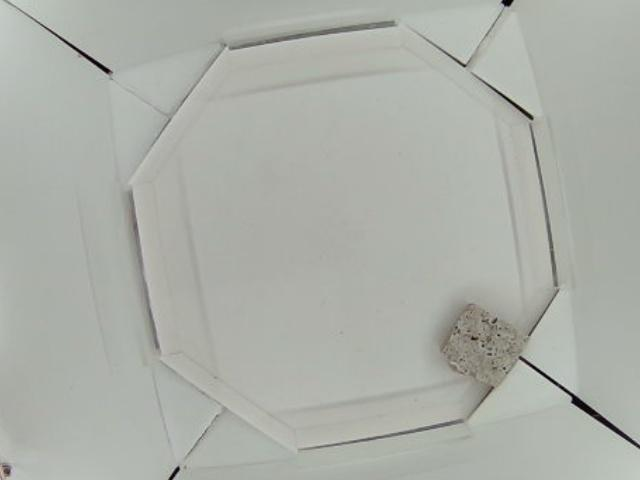China: (442, 303, 530, 387)
